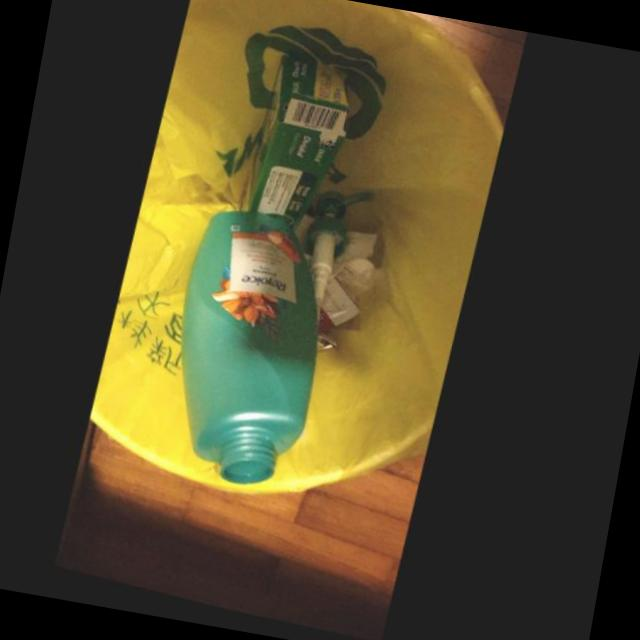carton: (251, 61, 350, 236)
chai_nhua: (188, 194, 379, 490)
